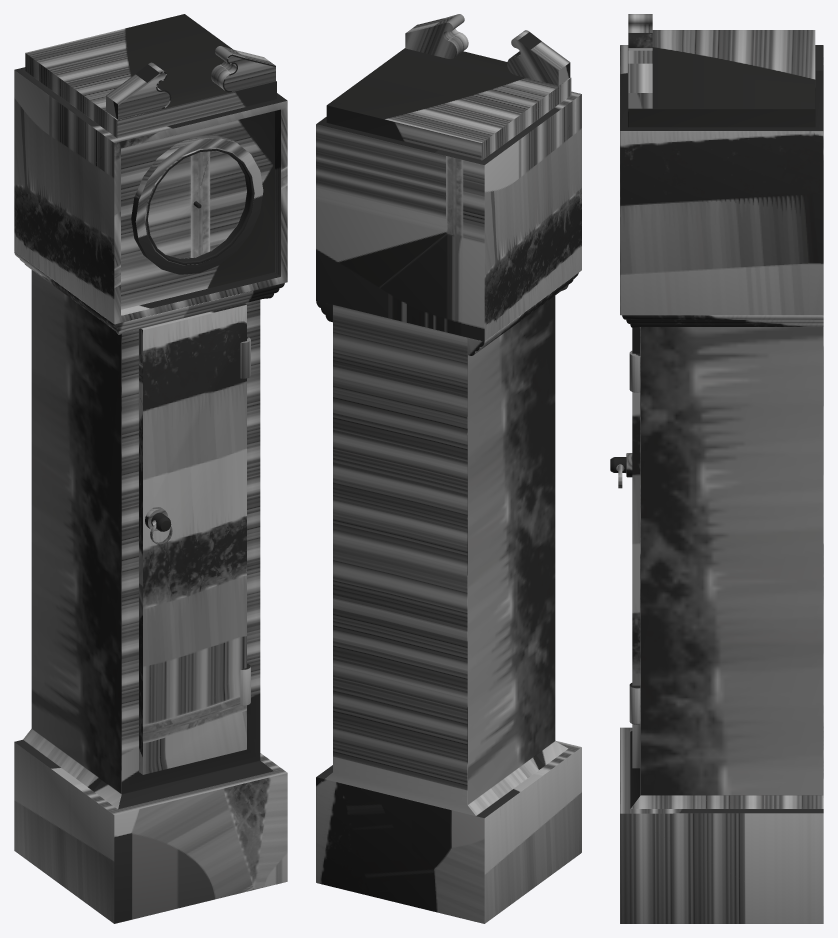
Rendered from Clock .fbx.
The picture shows the model from 3 angles, left to right: view 1: azimuth 30°, elevation 25°; view 2: azimuth 150°, elevation 25°; view 3: azimuth 270°, elevation 25°; orthographic projection. The views are drawn at different scales.
Visible parts, largest first — view 1: Box003; view 2: Box003; view 3: Box003.
Boxes of the visible parts, box(x1,y1,x2,y2) form: Box003: box(14, 14, 287, 923); Box003: box(316, 14, 581, 923); Box003: box(610, 14, 823, 923).
Size of the model in its own units: 50 by 230 by 52.38.
